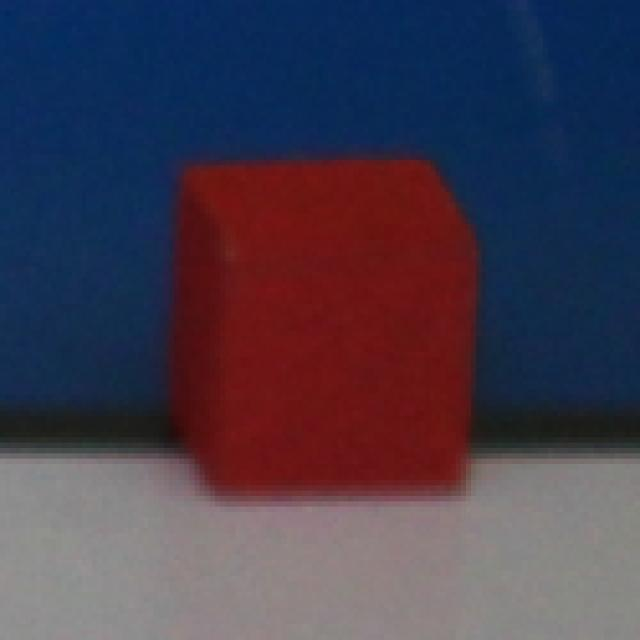red cube: (168, 153, 480, 496)
